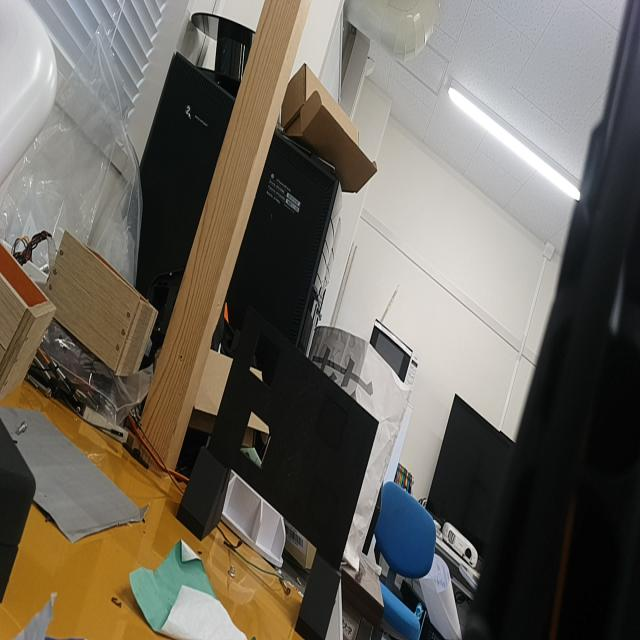Obstacle: (240, 409, 272, 467), (249, 343, 276, 387)
Wall: (209, 316, 379, 565)
